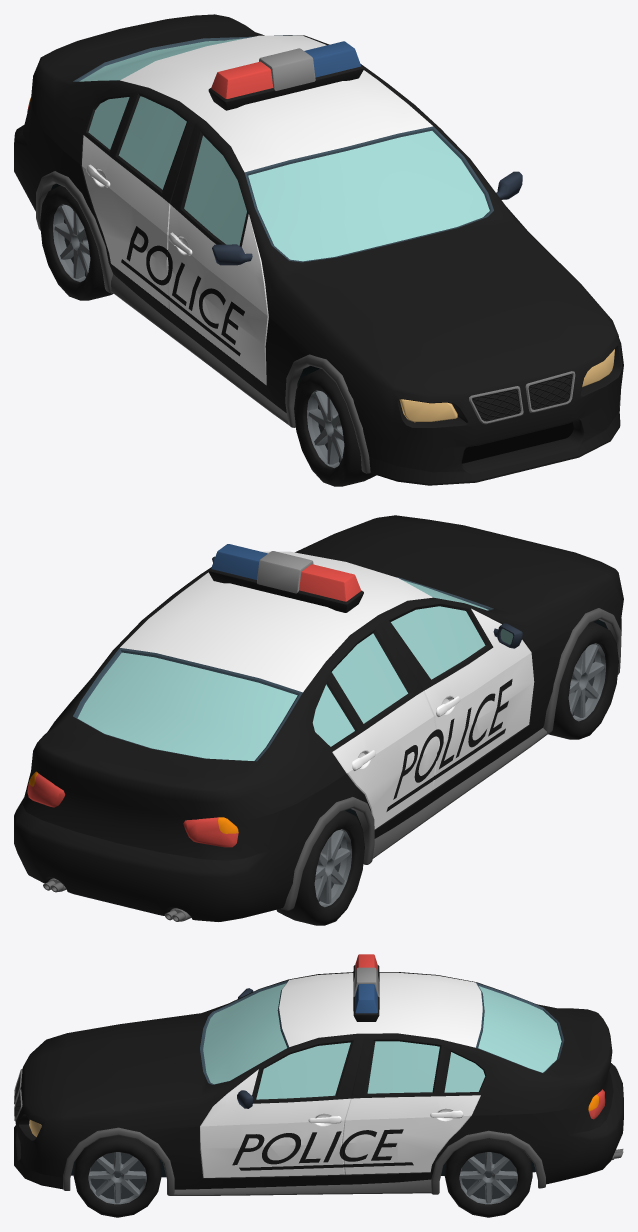
Rendered from SM_Vehicles_Police_02.fbx.
3 renders of one model, top to bottom at view 1: azimuth 30°, elevation 25°; view 2: azimuth 150°, elevation 25°; view 3: azimuth 270°, elevation 25°, orthographic. The views are drawn at different scales.
Parts seen in each view (by area): view 1: SM_Vehicles_Police_02, SM_Vehicles_Police_02_FR, SM_Vehicles_Police_02_RR; view 2: SM_Vehicles_Police_02, SM_Vehicles_Police_02_RR, SM_Vehicles_Police_02_FR; view 3: SM_Vehicles_Police_02, SM_Vehicles_Police_02_FL, SM_Vehicles_Police_02_RL.
Boxes of the visible parts, bbox=[...] form: SM_Vehicles_Police_02: bbox=[14, 14, 623, 485]; SM_Vehicles_Police_02_FR: bbox=[294, 368, 376, 486]; SM_Vehicles_Police_02_RR: bbox=[40, 185, 113, 300]; SM_Vehicles_Police_02: bbox=[14, 515, 623, 921]; SM_Vehicles_Police_02_RR: bbox=[276, 811, 364, 925]; SM_Vehicles_Police_02_FR: bbox=[548, 622, 618, 739]; SM_Vehicles_Police_02: bbox=[14, 954, 623, 1195]; SM_Vehicles_Police_02_FL: bbox=[73, 1135, 161, 1217]; SM_Vehicles_Police_02_RL: bbox=[444, 1139, 532, 1217].
Size of the model in its own units: 1.85 by 1.54 by 4.32.
